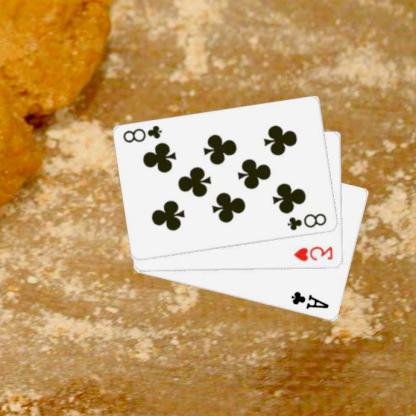3H: (293, 243, 336, 263)
8C: (122, 122, 166, 145), (286, 211, 330, 232)
AC: (291, 289, 332, 311)
